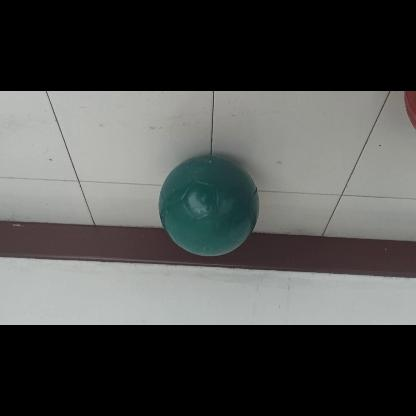green_ball: (160, 157, 260, 257)
